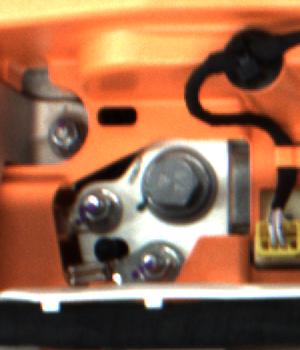nut_b: (136, 144, 215, 221)
screw_s: (75, 192, 117, 231), (135, 241, 173, 280), (43, 118, 82, 154)
